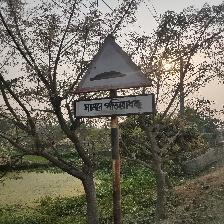Speed-breaker: (73, 34, 155, 119)
